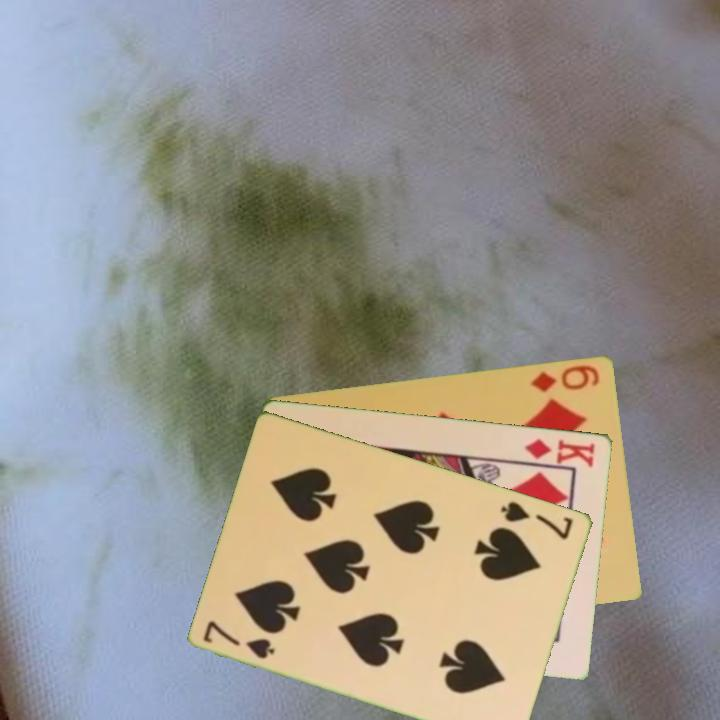6d: (527, 361, 603, 394)
7s: (498, 497, 577, 542), (200, 617, 278, 662)
Kd: (521, 434, 598, 470)
